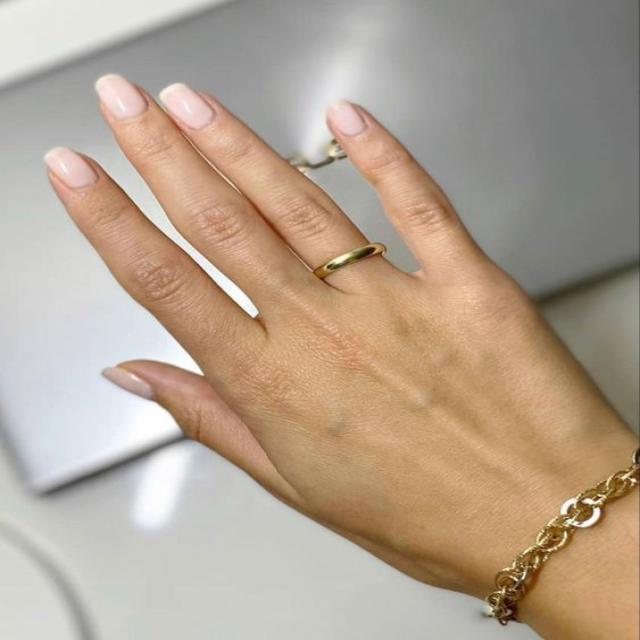Fingernail: (160, 84, 213, 129), (96, 75, 145, 119), (45, 148, 96, 189), (102, 367, 153, 400), (331, 101, 364, 135)
